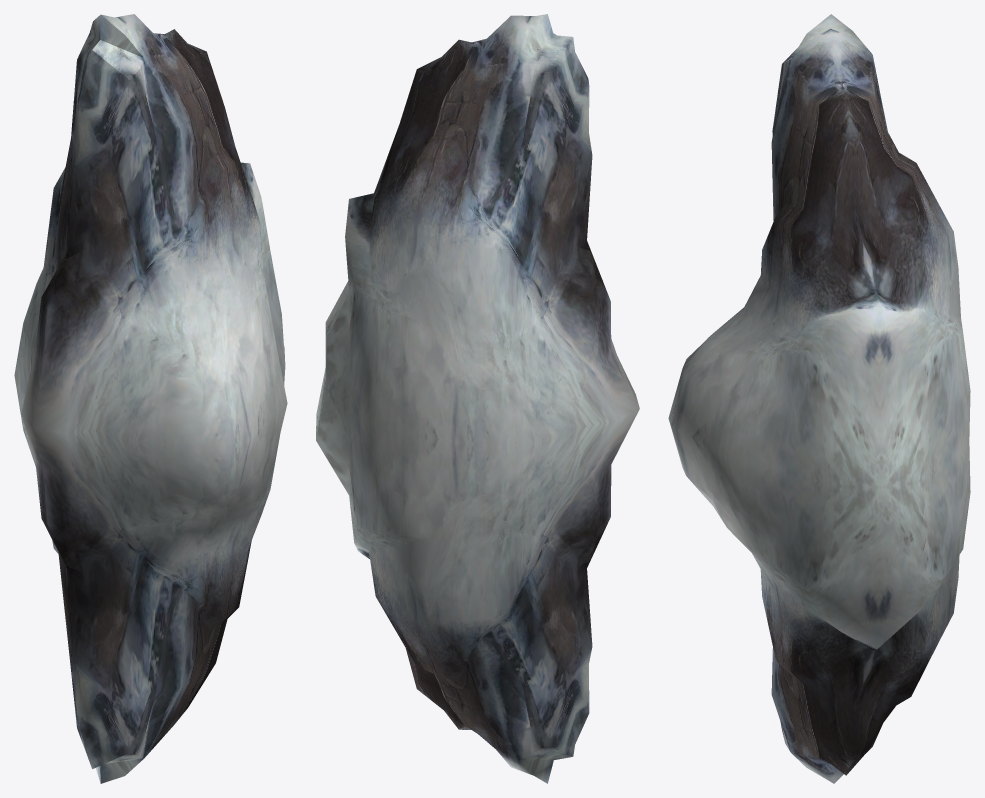
Rendered from S_Rock_White030.FBX.
3 renders of one model, left to right at view 1: azimuth 30°, elevation 25°; view 2: azimuth 150°, elevation 25°; view 3: azimuth 270°, elevation 25°, orthographic.
Visible parts, largest first — view 1: S_Rock_White030; view 2: S_Rock_White030; view 3: S_Rock_White030.
Boxes of the visible parts, x1,y1,x2,y2 form: S_Rock_White030: (14,14,287,783); S_Rock_White030: (316,14,639,783); S_Rock_White030: (668,14,970,783).
Bounding box in the file's own units: 375 × 353 × 983.
